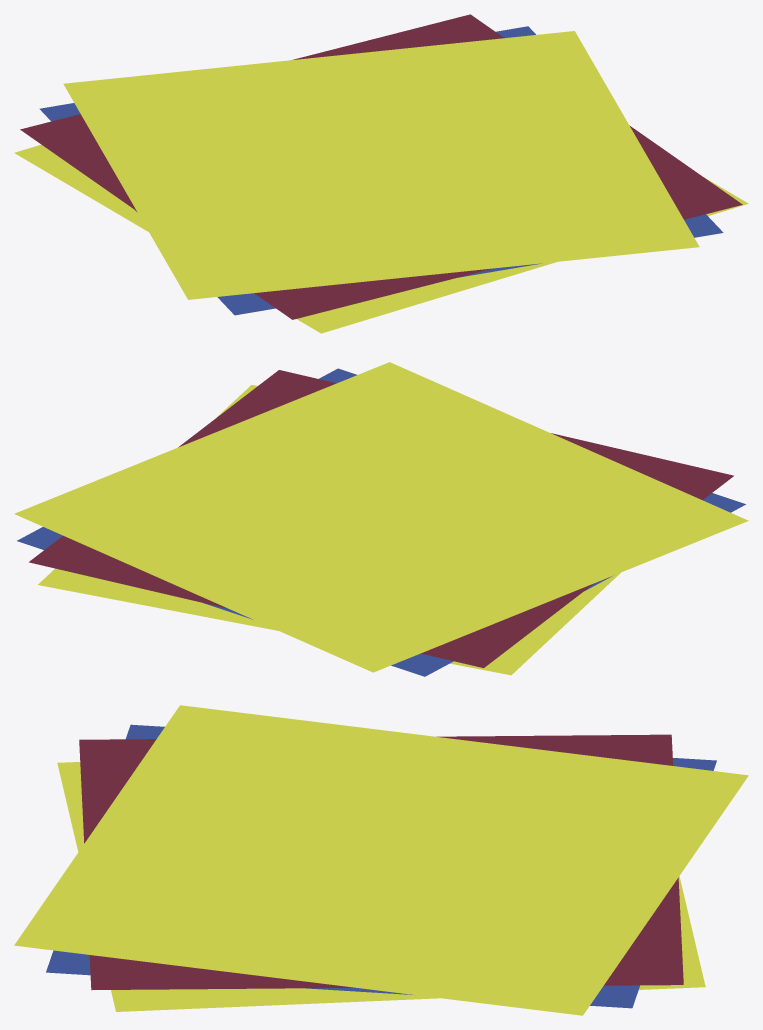
File: papier.fbx
The picture shows the model from 3 angles, top to bottom: view 1: azimuth 30°, elevation 25°; view 2: azimuth 150°, elevation 25°; view 3: azimuth 270°, elevation 25°; orthographic projection. The views are drawn at different scales.
Parts seen in each view (by area): view 1: pPlane5; view 2: pPlane5; view 3: pPlane5.
Boxes of the visible parts, left/top/right/bottom form: pPlane5: left=14, top=14, right=748, bottom=333; pPlane5: left=14, top=362, right=748, bottom=676; pPlane5: left=14, top=705, right=748, bottom=1015.
Size of the model in its own units: 16.22 by 0.3533 by 16.22.
